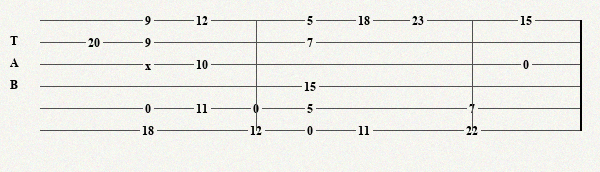0: (145, 102, 155, 115), (253, 102, 263, 115), (307, 124, 317, 137), (523, 58, 533, 71)
10: (196, 58, 212, 71)
11: (196, 102, 212, 115), (358, 124, 374, 137)
12: (196, 14, 212, 27), (250, 124, 266, 137)
15: (304, 80, 320, 93), (520, 14, 536, 27)
18: (142, 124, 158, 137), (358, 14, 374, 27)
20: (88, 36, 104, 49)
22: (466, 124, 482, 137)
23: (412, 14, 428, 27)
5: (307, 102, 317, 115), (307, 14, 317, 27)
7: (307, 36, 317, 49), (469, 102, 479, 115)
9: (145, 14, 155, 27), (145, 36, 155, 49)
x: (145, 59, 155, 69)
